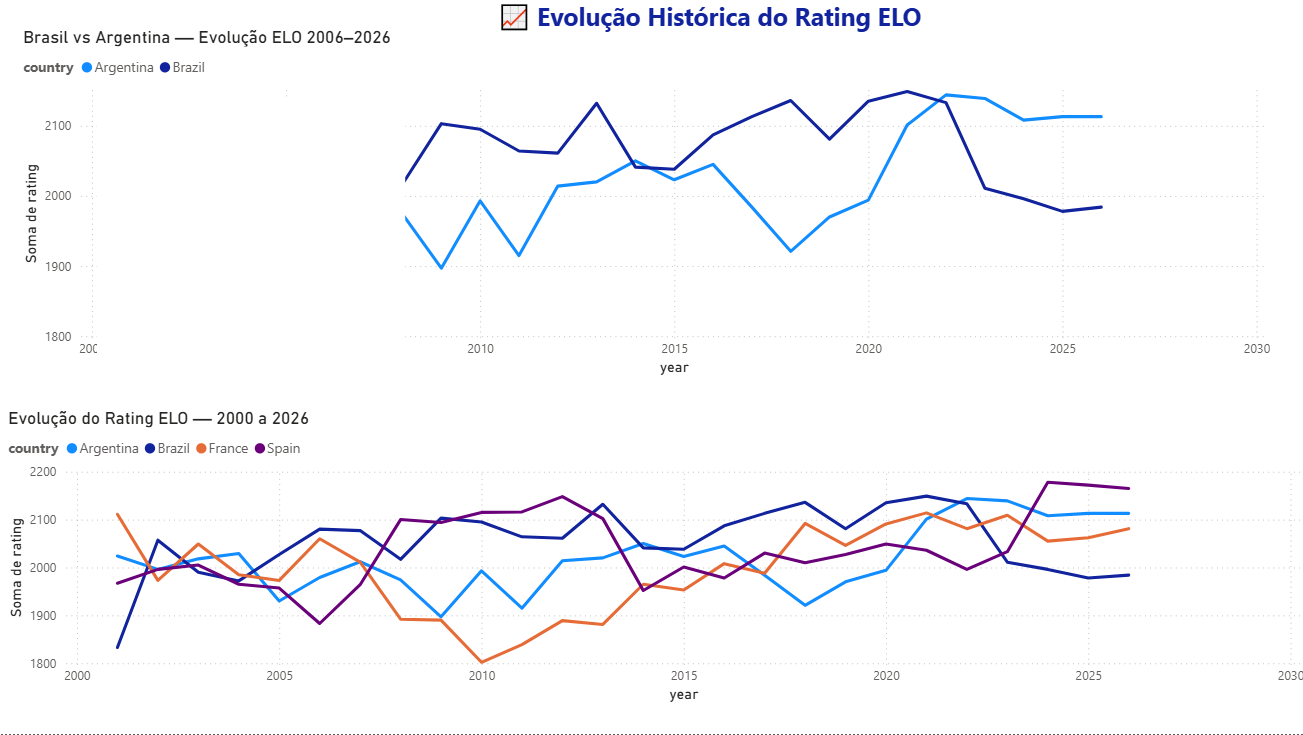

The page's visual inventory and layout, read from the dashboard file:
{"tool":"powerbi","page":{"name":"Evolução Histórica do Rating ELO","canvas":[1280,720],"ordinal":2},"visuals":[{"type":"lineChart","title":"Brasil vs Argentina — Evolução ELO 2006–2026","fields":{"Category":["elo_ratings_wc2026.year"],"Y":["Sum(elo_ratings_wc2026.rating)"],"Series":["elo_ratings_wc2026.country"]},"box":[23.3,32.1,1223.6,344.3],"z":0},{"type":"lineChart","title":"Evolução do Rating ELO — 2000 a 2026","fields":{"Category":["elo_ratings_wc2026.year"],"Y":["Sum(elo_ratings_wc2026.rating)"],"Series":["elo_ratings_wc2026.country"]},"box":[8.8,402.7,1271.2,291.8],"z":1000},{"type":"textbox","box":[100,100,300,300],"z":2000},{"type":"textbox","box":[485.3,0,693.5,53.5],"z":3000}]}

Visuals, with their boxes in screenshot pixels (x1, y1, x2, y2), scaled from the page's 1280x720 canvas onto the 1303x735 screenshot:
"Brasil vs Argentina — Evolução ELO 2006–2026" lineChart: <box>24,33,1269,384</box>
"Evolução do Rating ELO — 2000 a 2026" lineChart: <box>9,411,1302,709</box>
textbox: <box>102,102,407,408</box>
textbox: <box>494,0,1200,55</box>
